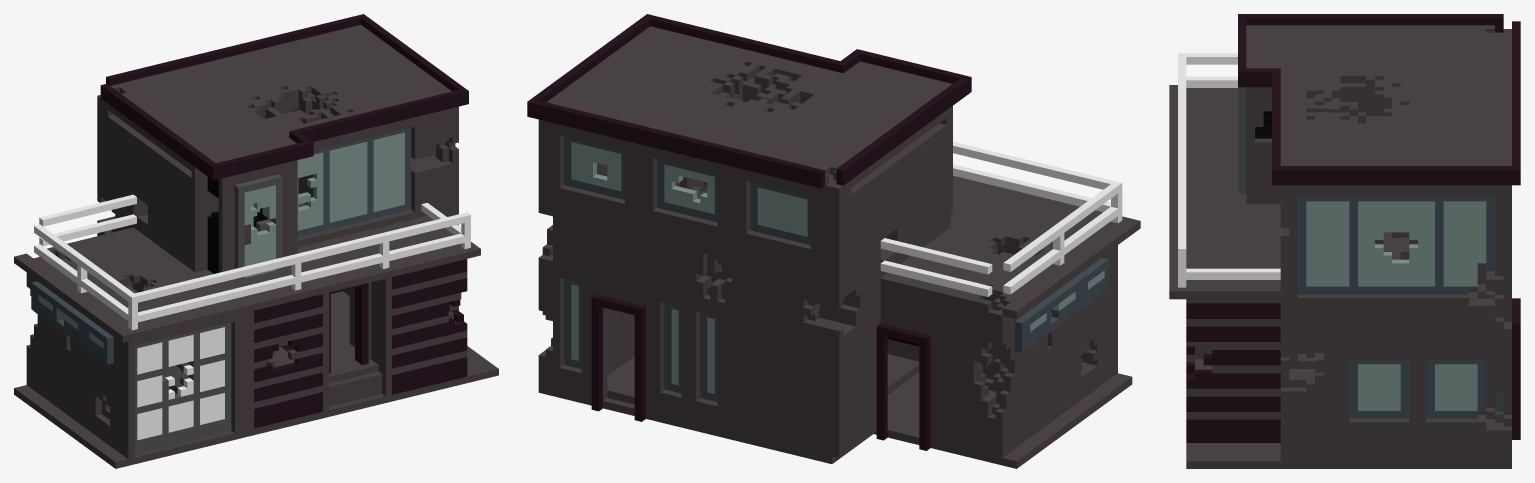
The model's file is casinha nova.obj.
The picture shows the model from 3 angles, left to right: view 1: azimuth 30°, elevation 25°; view 2: azimuth 150°, elevation 25°; view 3: azimuth 270°, elevation 25°; orthographic projection. The views are drawn at different scales.
Size of the model in its own units: 6.2 by 3.9 by 4.1.
Materials: 1 (1 with a texture image).
